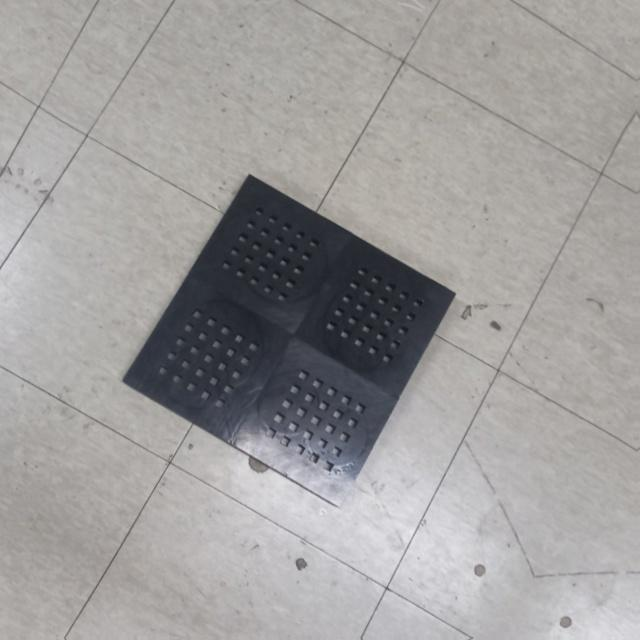pallet: (116, 161, 474, 520)
